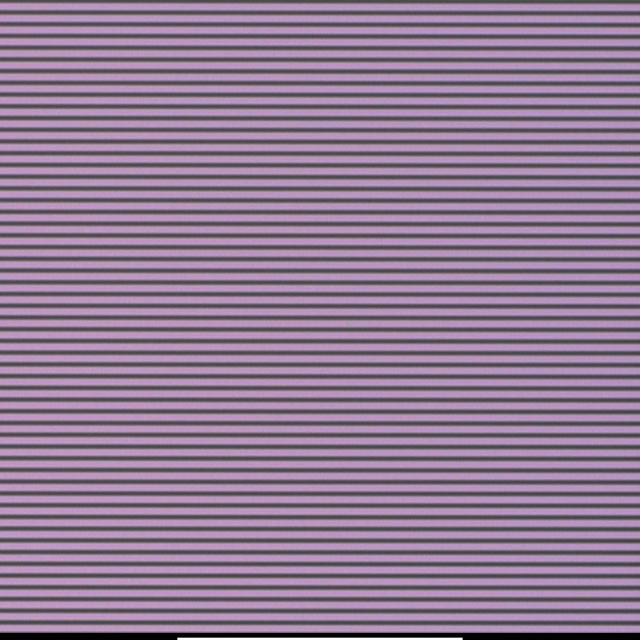nonvisual: (345, 325, 355, 332)
